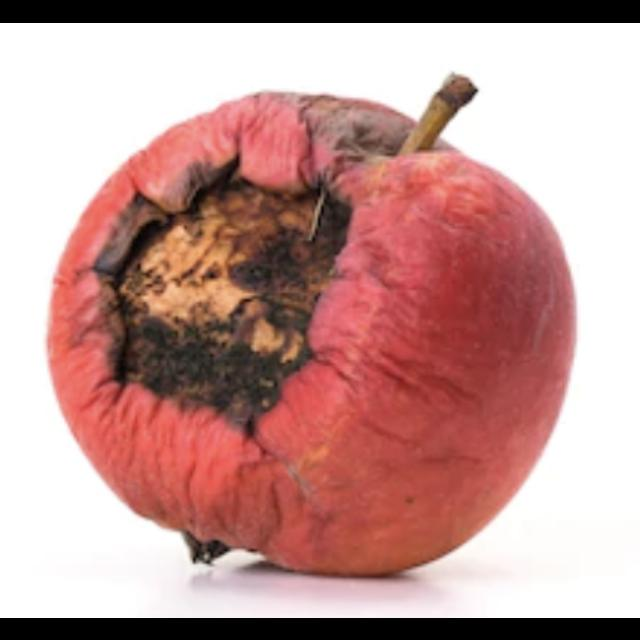Apel Tidak Segar: (46, 90, 576, 584)
